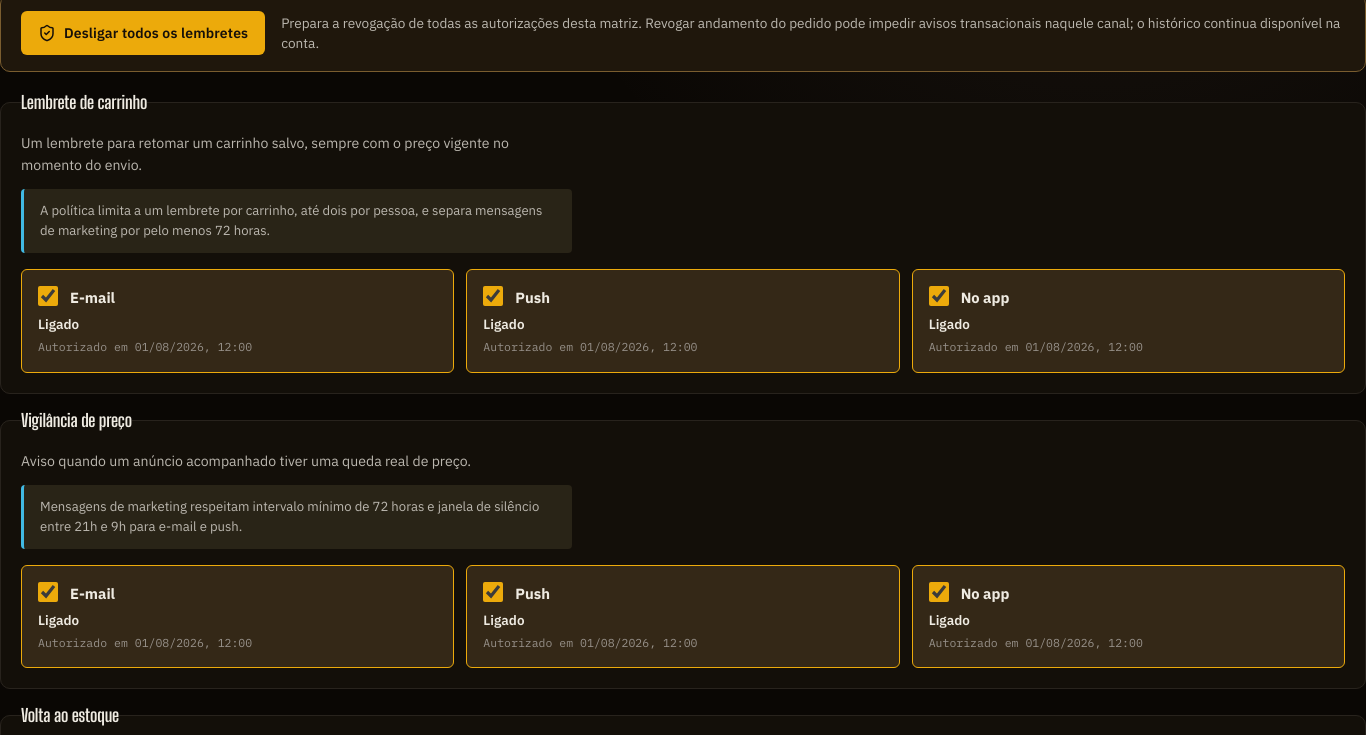
Test: ConsentMatrix › prepara a revogação de todos os canais
Step 1. Click the button "Desligar todos os lembretes" → (143, 33), box [21, 11, 265, 55]
(page scrolled)
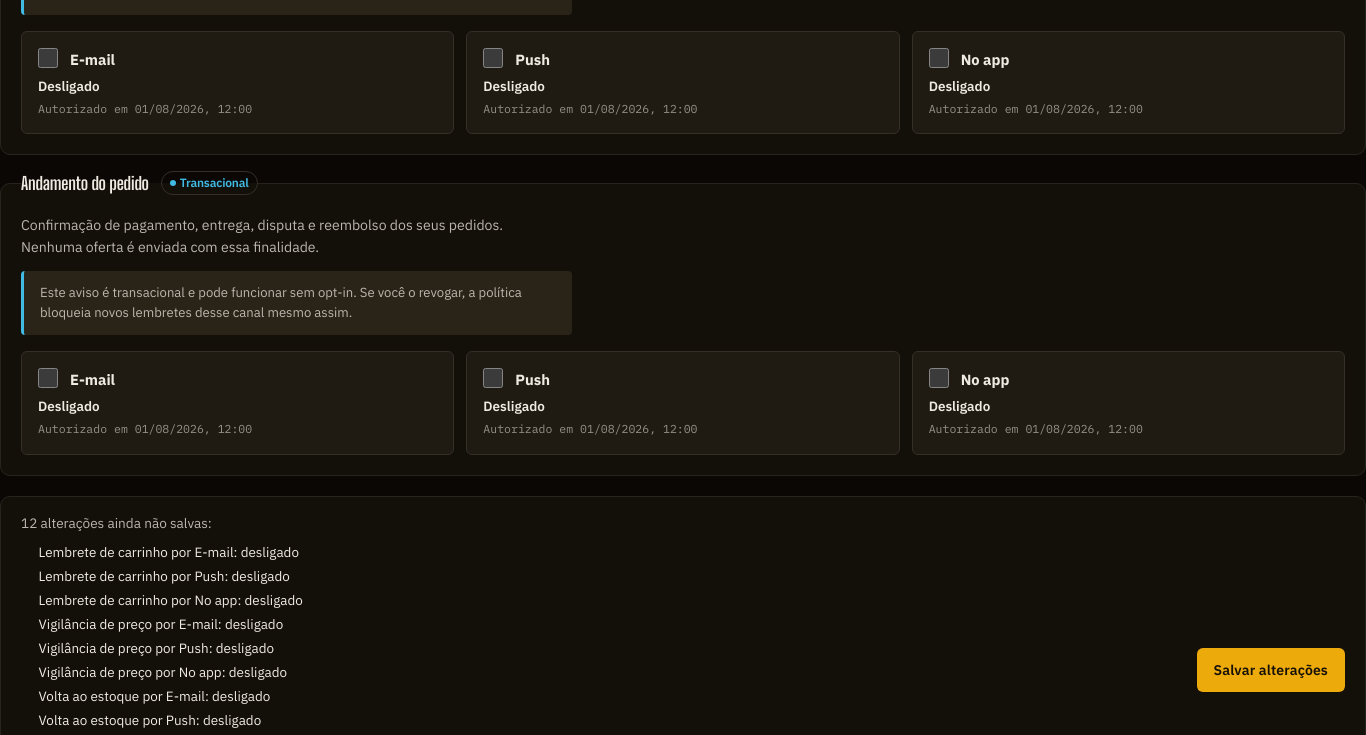
Check: the 1st checkbox labelled "E-mail Desligado Autorizado em 01/08/2026, 12:00" is not checked, box [38, 48, 58, 68]
Check: the 1st checkbox labelled "Push Desligado Autorizado em 01/08/2026, 12:00" is not checked, box [483, 48, 503, 68]
Check: the 1st checkbox labelled "No app Desligado Autorizado em 01/08/2026, 12:00" is not checked, box [929, 48, 949, 68]
